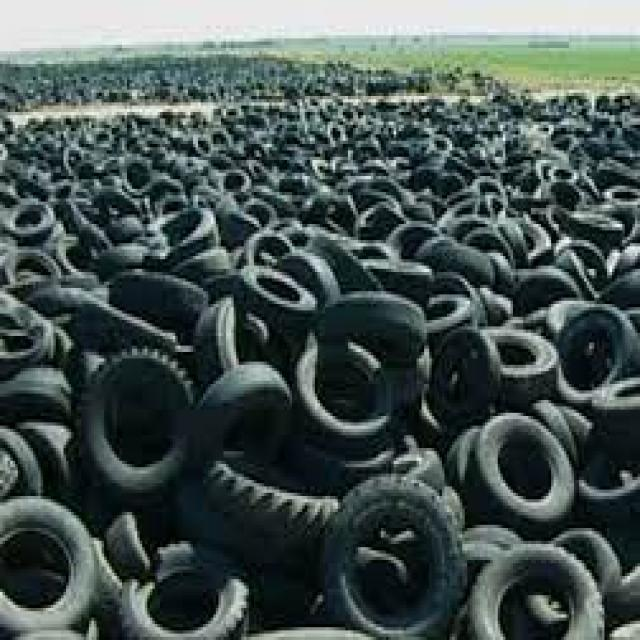Rubber -Non-Biodegradable but Recyclable-: (0, 49, 640, 640)
